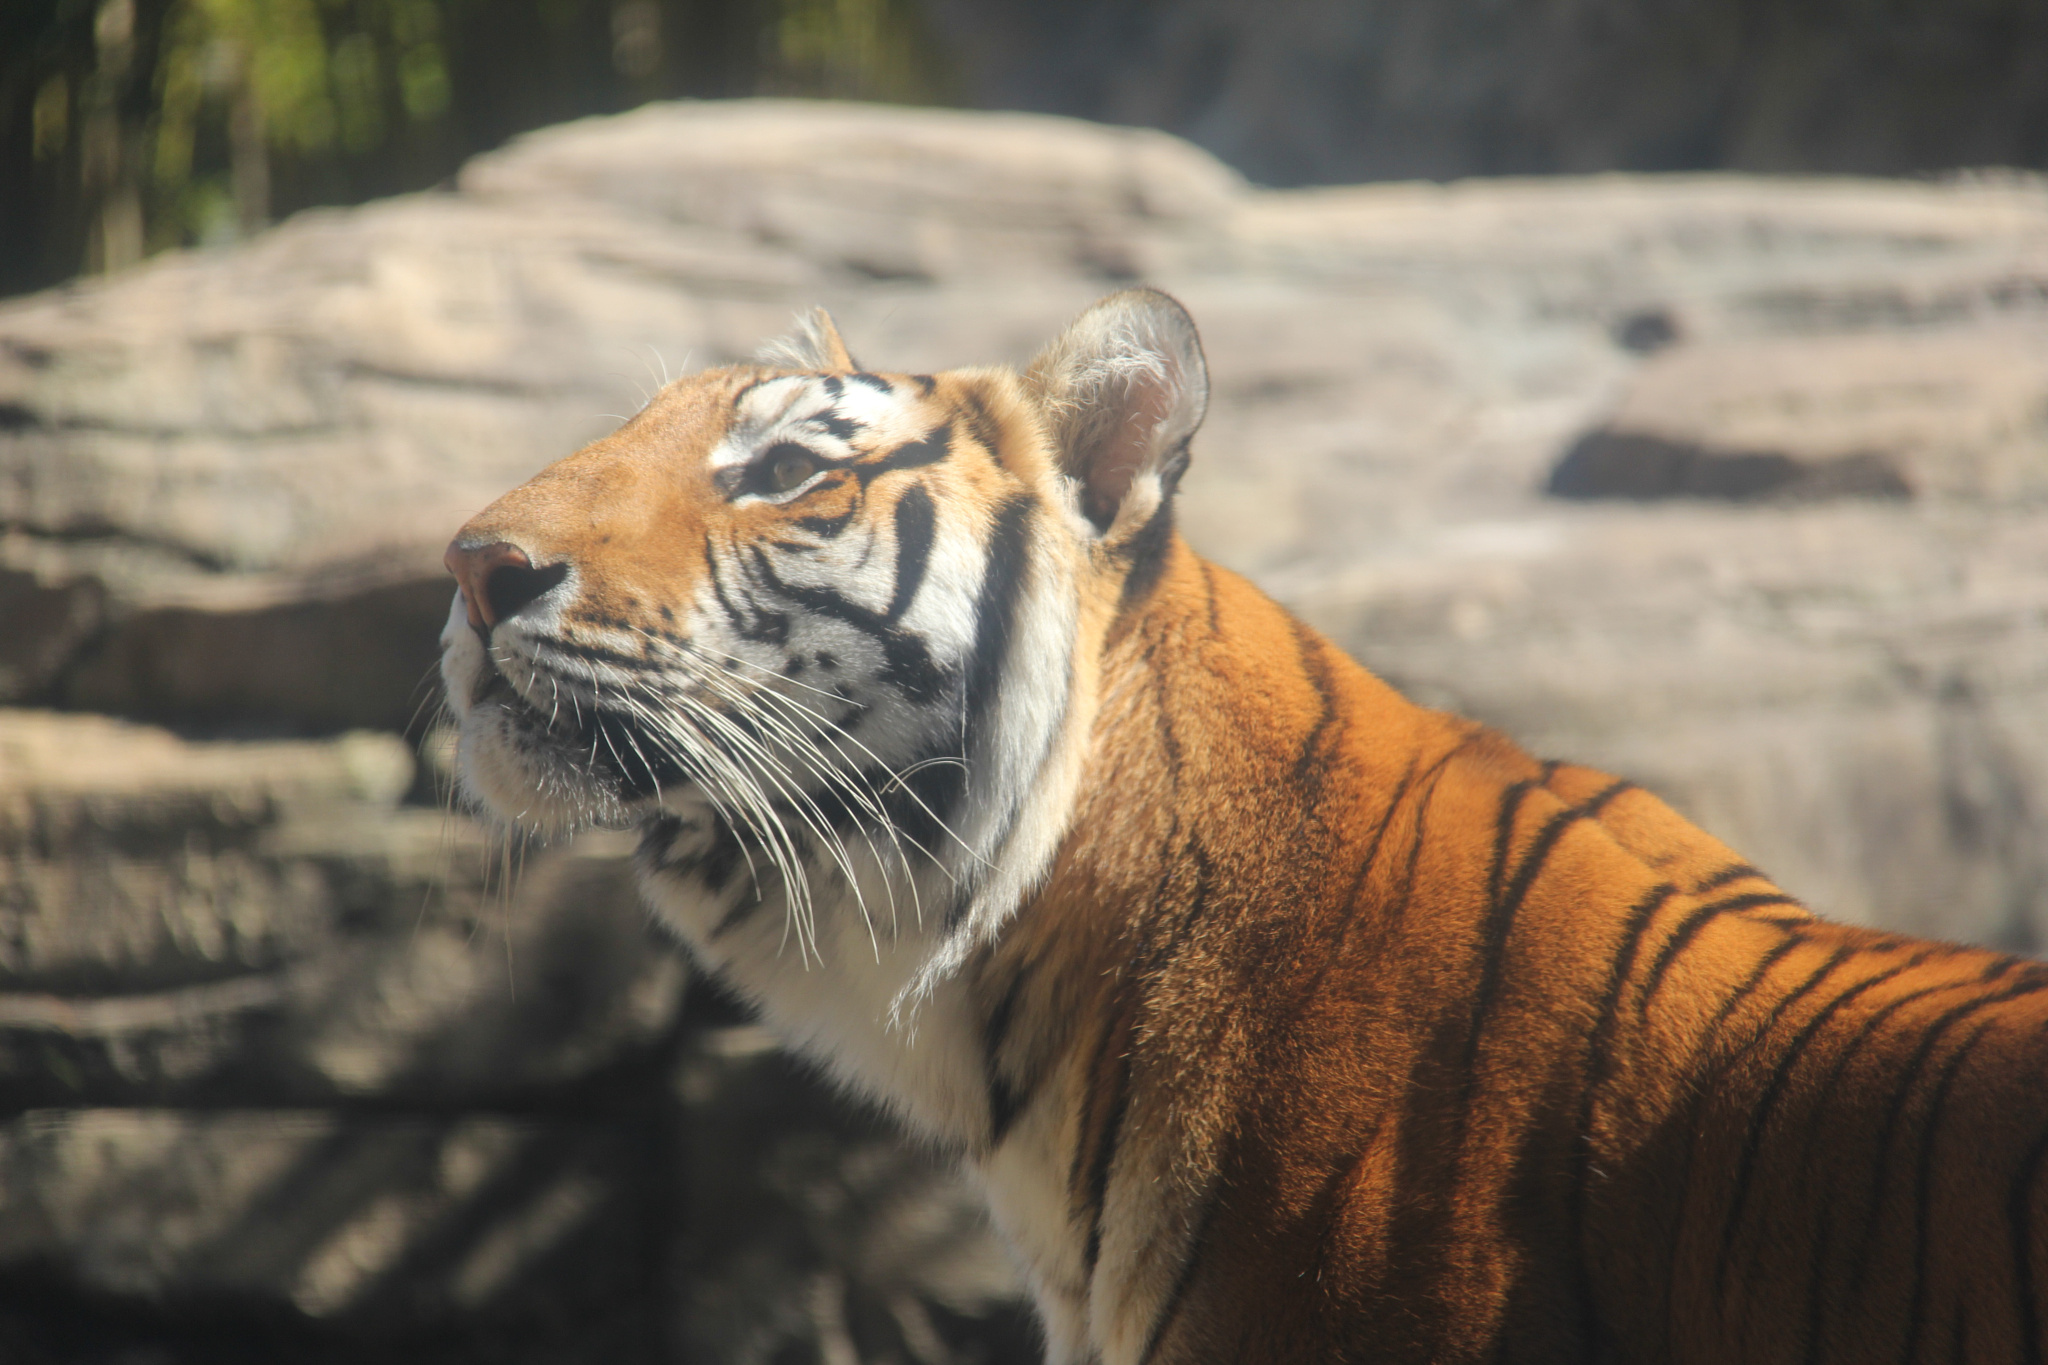tiger: (407, 317, 1998, 1348)
